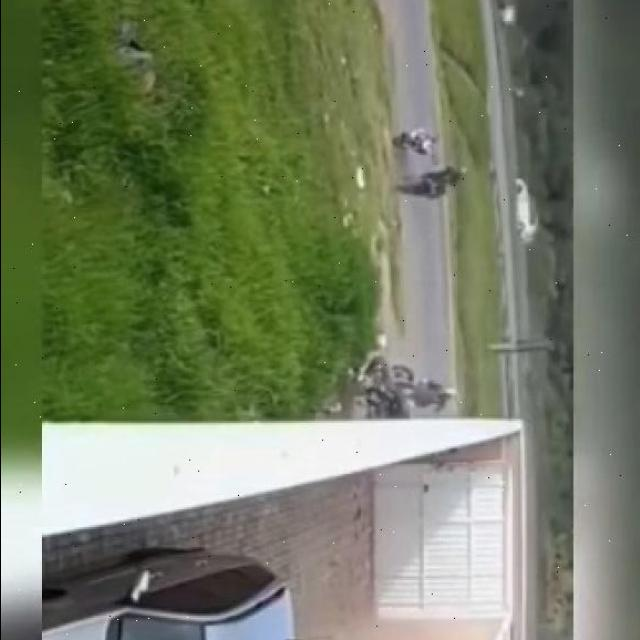accident: (350, 350, 398, 436)
